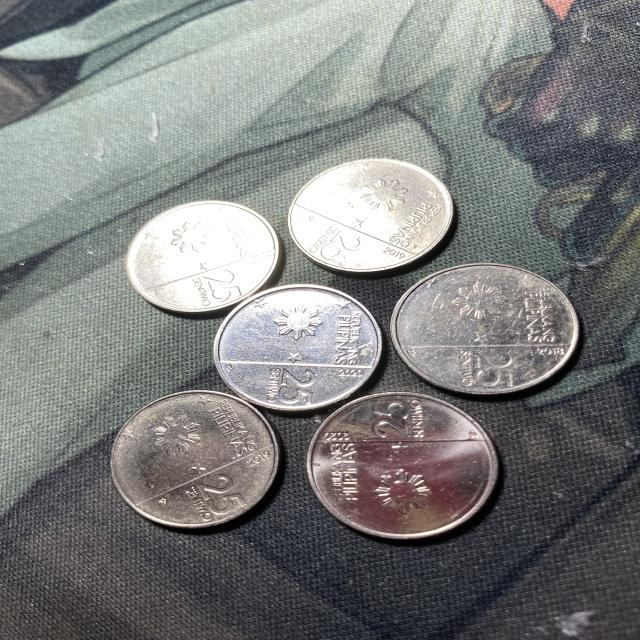25Cent_New_Front: (195, 473, 247, 514), (467, 346, 520, 386), (366, 400, 416, 438), (276, 368, 322, 404), (322, 228, 365, 262), (204, 269, 243, 300)
